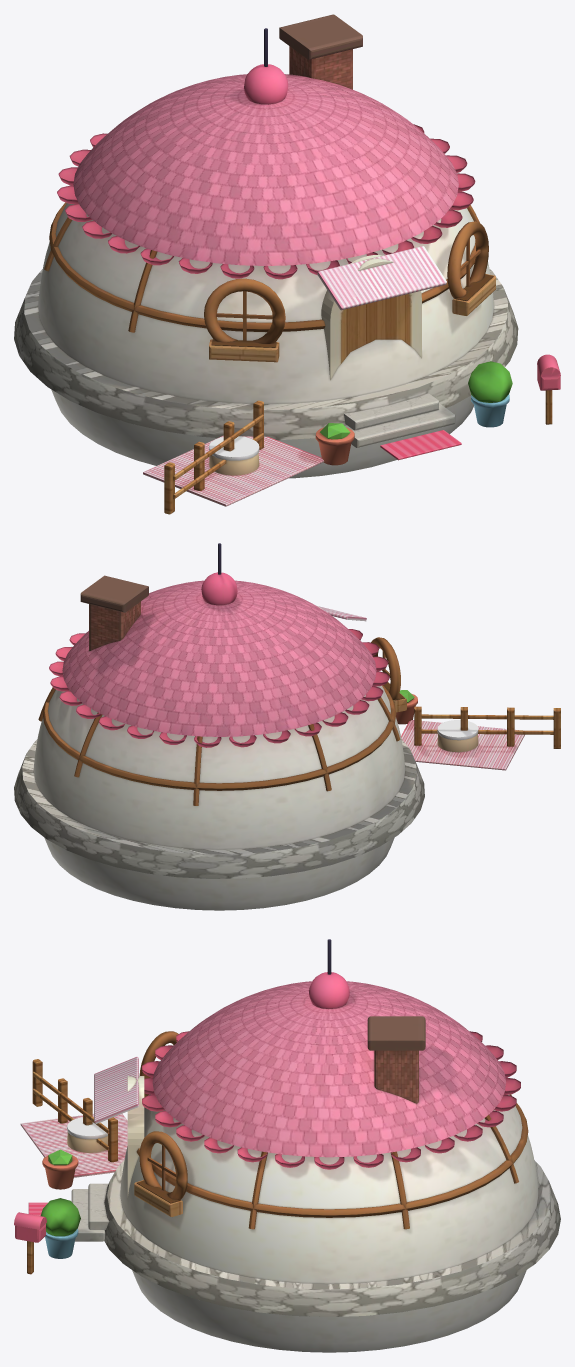
The model's file is house.glb.
The picture shows the model from 3 angles, top to bottom: view 1: azimuth 30°, elevation 25°; view 2: azimuth 150°, elevation 25°; view 3: azimuth 270°, elevation 25°; orthographic projection. The views are drawn at different scales.
Visible parts, largest first — view 1: Mesh_0; view 2: Mesh_0; view 3: Mesh_0.
Boxes of the visible parts, box(x1,y1,x2,y2) form: Mesh_0: box(14, 14, 560, 514); Mesh_0: box(14, 543, 560, 910); Mesh_0: box(14, 939, 560, 1352).
Size of the model in its own units: 13.57 by 9.76 by 14.64.
1 material, 1 textured.
